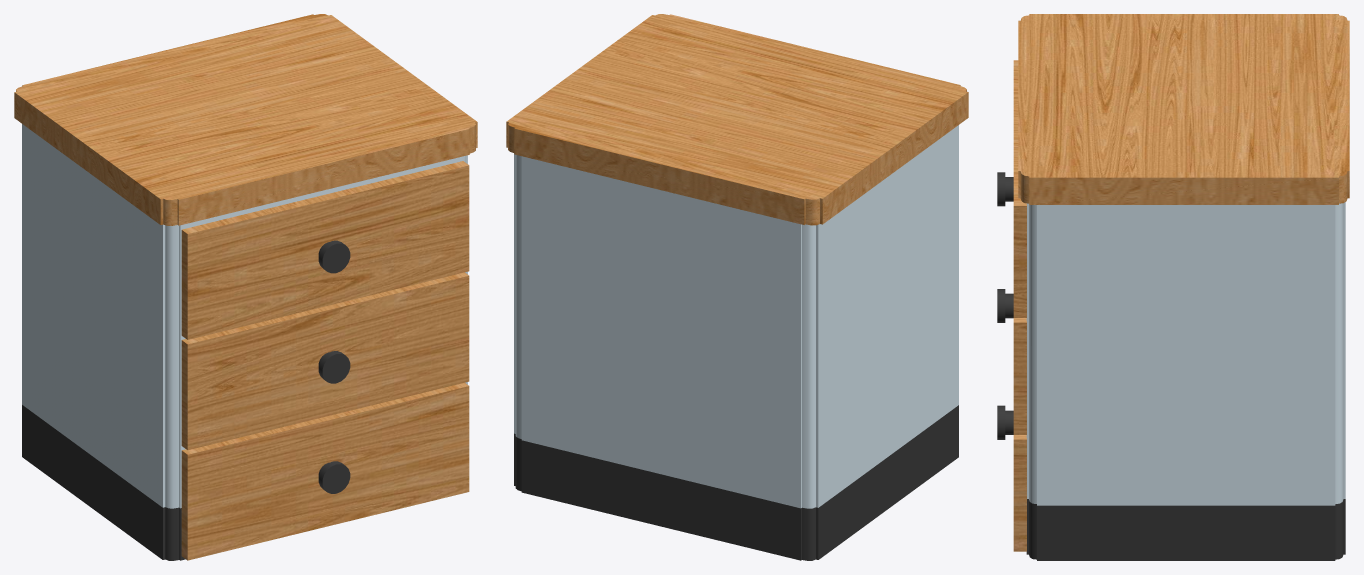
File: prop-smallCabinet.FBX
The picture shows the model from 3 angles, left to right: view 1: azimuth 30°, elevation 25°; view 2: azimuth 150°, elevation 25°; view 3: azimuth 270°, elevation 25°; orthographic projection. The views are drawn at different scales.
Visible parts, largest first — view 1: LemariA; view 2: LemariA; view 3: LemariA.
Boxes of the visible parts, <box> form: LemariA: <box>14,14,477,560</box>; LemariA: <box>506,14,968,560</box>; LemariA: <box>997,14,1349,560</box>.
Size of the model in its own units: 57.18 by 62.92 by 52.05.
1 material, 1 textured.
